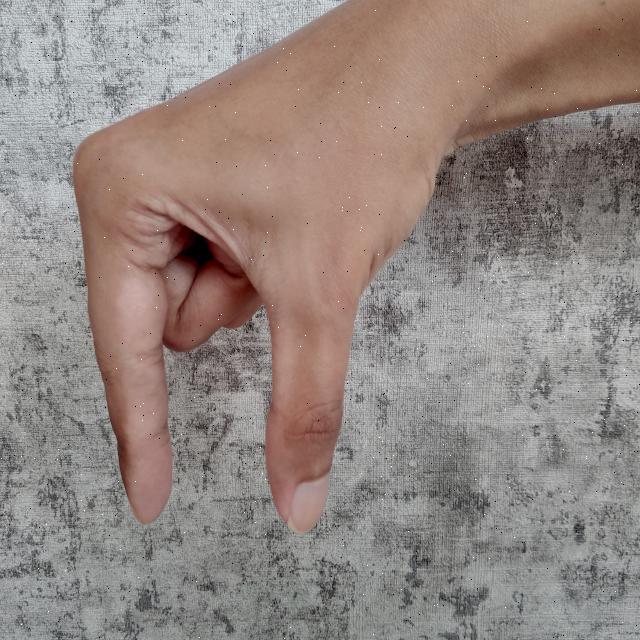Q: (63, 0, 638, 546)
